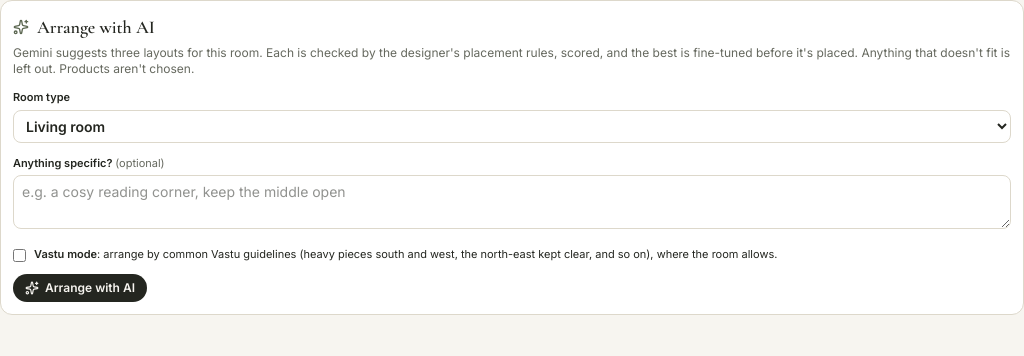
Test: AiLayoutPanel › changes nothing and says so when none of the layout fits
Click the button "Arrange with AI" at coordinates (80, 288), box [13, 274, 147, 302]
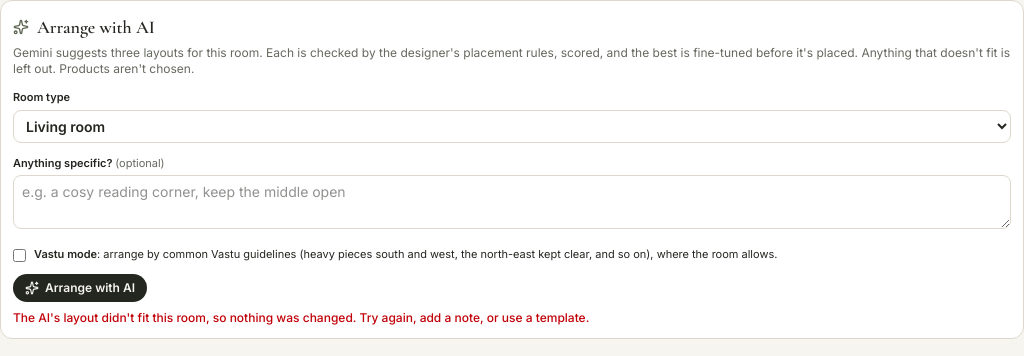
Result: the message shows "nothing was changed" at [13, 310, 589, 325]
